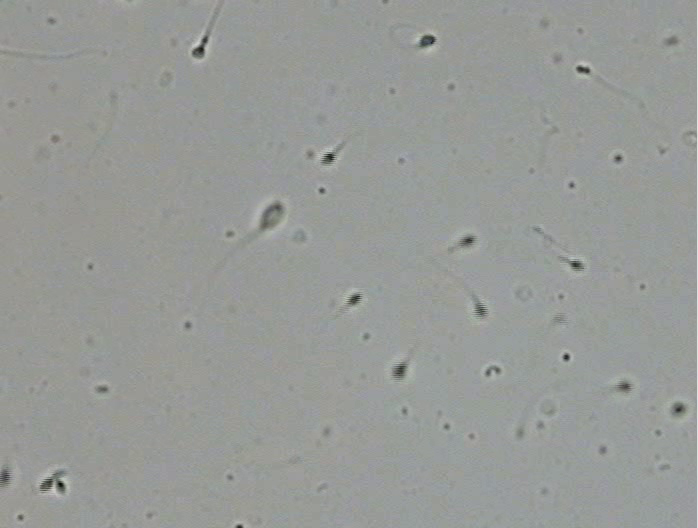S: (260, 201, 285, 228), (392, 362, 407, 381), (474, 300, 488, 318), (39, 477, 54, 493), (346, 292, 362, 307), (419, 34, 436, 47), (1, 466, 11, 487), (320, 152, 336, 165), (459, 235, 476, 247), (569, 259, 585, 271), (616, 380, 632, 392), (192, 45, 205, 59), (55, 479, 66, 495), (672, 403, 685, 416), (575, 65, 591, 74)
